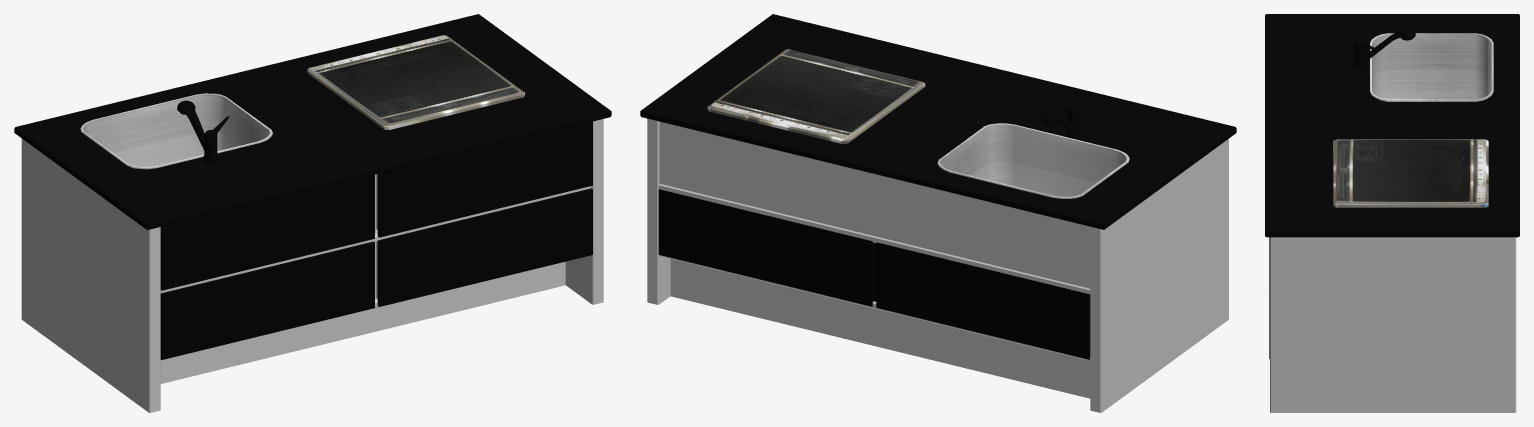
File: systemkitchen_A.fbx
The picture shows the model from 3 angles, left to right: view 1: azimuth 30°, elevation 25°; view 2: azimuth 150°, elevation 25°; view 3: azimuth 270°, elevation 25°; orthographic projection. The views are drawn at different scales.
Visible parts, largest first — view 1: systemkitchen_A; view 2: systemkitchen_A; view 3: systemkitchen_A.
Part boxes in pixels (bbox=[...]): systemkitchen_A: bbox=[14, 14, 611, 412]; systemkitchen_A: bbox=[640, 14, 1236, 412]; systemkitchen_A: bbox=[1265, 14, 1519, 412].
Size of the model in its own units: 181 by 86.07 by 89.37.
6 materials, 2 textured.
